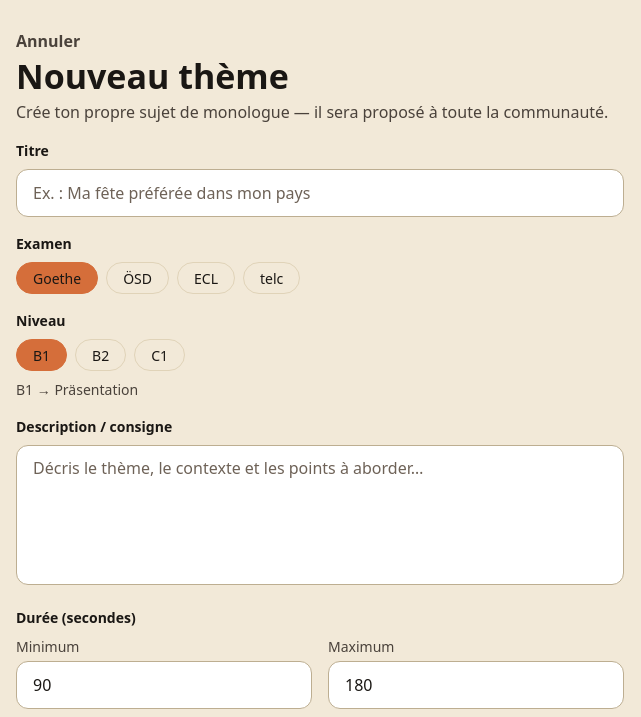
Test case: CustomTopicScreen — community sprechen theme authoring (S7 Task 7.7) › a grader_unavailable_for_pair rejection renders its exact locale copy and does not navigate
Type "Mein Thema" into the field named "Titre" at (320, 193), box x1=16 y1=169 x2=624 y2=217
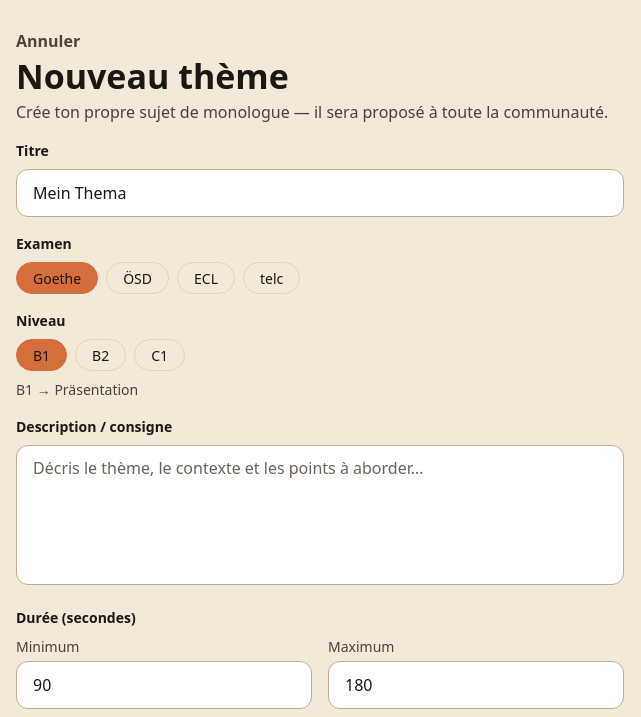
Type "Eine ausreichend lange Beschreibung des Themas." into the text box named "Description / consigne" at (320, 515), box x1=16 y1=445 x2=624 y2=585
(page scrolled)
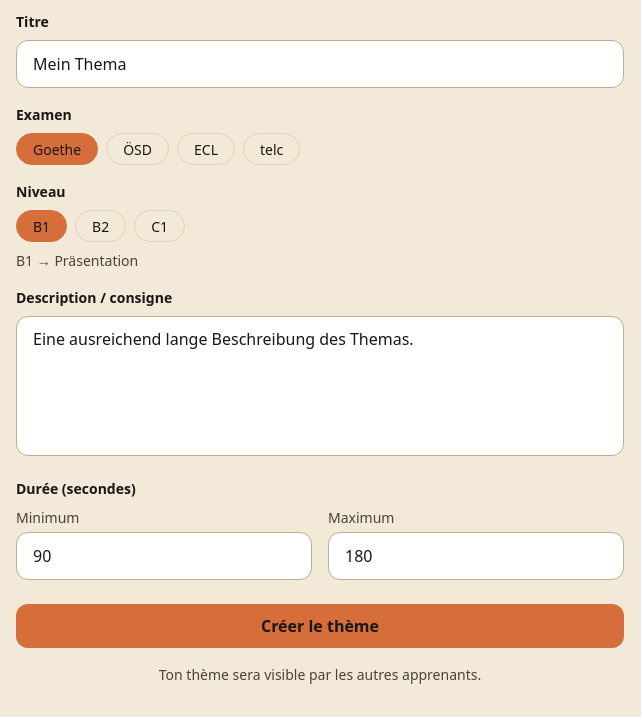
Click the button with test id "sprechen-custom-topic-submit" at (320, 626), box x1=16 y1=604 x2=624 y2=648
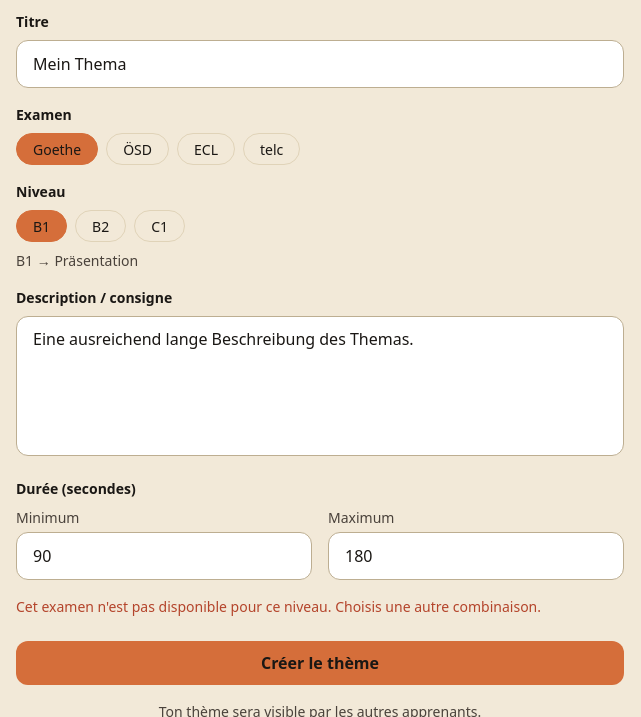
Now the message "Cet examen n'est pas disponible pour ce niveau. Choisis une autre combinaison." is shown, box x1=16 y1=596 x2=624 y2=617
Now the message with test id "sprechen-custom-topic-error" reads "Cet examen n'est pas disponible pour ce niveau. Choisis une autre combinaison.", box x1=16 y1=597 x2=541 y2=616
